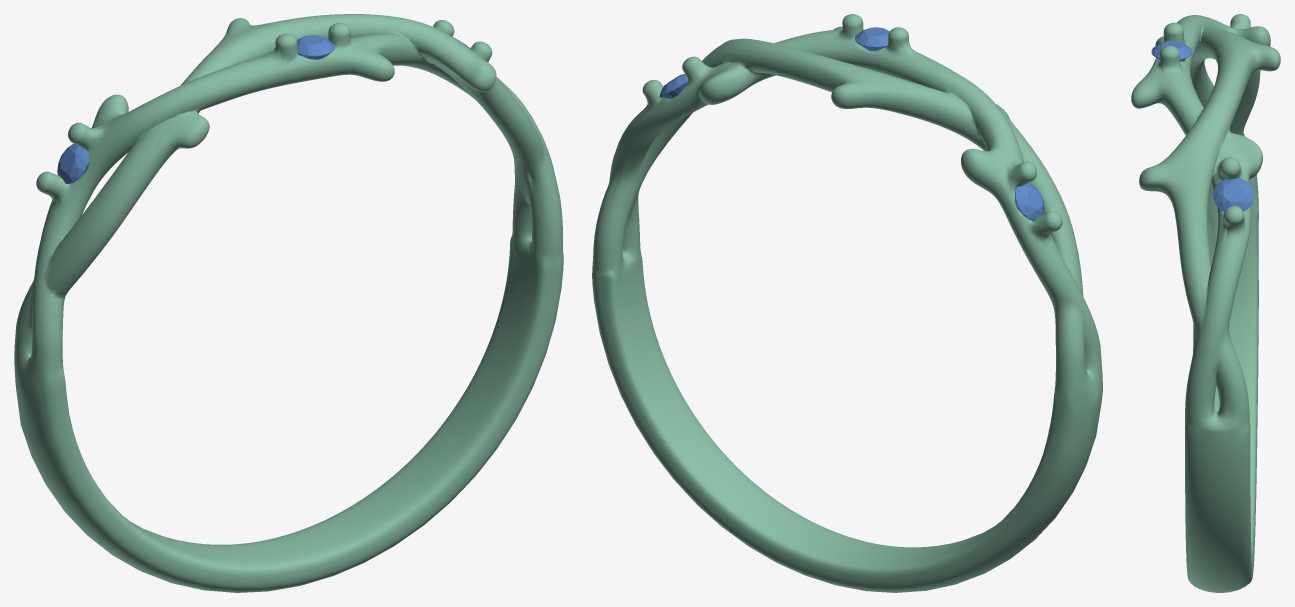
The picture shows the model from 3 angles, left to right: view 1: azimuth 30°, elevation 25°; view 2: azimuth 150°, elevation 25°; view 3: azimuth 270°, elevation 25°; orthographic projection. The views are drawn at different scales.
Parts seen in each view (by area): view 1: MP - 123.3dm, Gem (×2); view 2: MP - 123.3dm, Gem; view 3: MP - 123.3dm, Gem (×2).
Part boxes in pixels (x1,y1,x2,y2): MP - 123.3dm: (14,14,563,592); Gem (×2): (57,35,334,183); MP - 123.3dm: (592,14,1102,592); Gem: (1014,182,1044,220); MP - 123.3dm: (1131,14,1280,592); Gem (×2): (1151,41,1253,211).
Bounding box in the file's own units: 2.74 × 2.83 × 0.7225.
